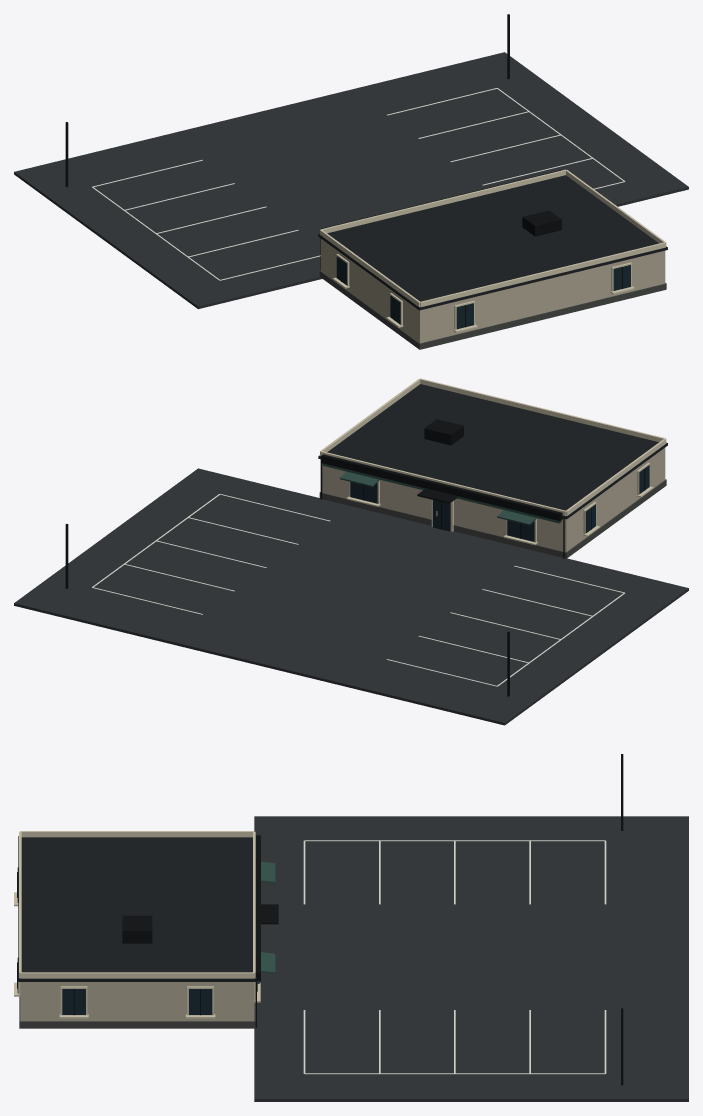
File: 18_Autohof.obj
3 views of the same model, one above another, from view 1: azimuth 30°, elevation 25°; view 2: azimuth 150°, elevation 25°; view 3: azimuth 270°, elevation 25° (orthographic). The views are drawn at different scales.
Visible parts, largest first — view 1: Asphalt, Roof, Plaster, Trim, Base, White, Metal, Glass; view 2: Asphalt, Roof, Plaster, Trim, Metal, White, Base, Glass, Awning; view 3: Asphalt, Roof, Plaster, Trim, White, Metal, Base, Glass, Awning.
Boxes of the visible parts, x1,y1,x2,y2 form: Asphalt: [14, 52, 688, 309]; Roof: [318, 175, 667, 310]; Plaster: [321, 239, 665, 343]; Trim: [320, 169, 666, 332]; Base: [319, 270, 666, 349]; White: [92, 88, 625, 280]; Metal: [65, 14, 622, 327]; Glass: [336, 256, 630, 329]; Asphalt: [14, 468, 688, 725]; Roof: [318, 384, 667, 519]; Plaster: [322, 448, 665, 552]; Trim: [320, 378, 666, 545]; Metal: [65, 419, 645, 696]; White: [92, 494, 625, 686]; Base: [319, 479, 666, 558]; Glass: [350, 465, 649, 541]; Awning: [323, 463, 561, 525]; Asphalt: [254, 816, 688, 1101]; Roof: [18, 836, 256, 981]; Plaster: [20, 982, 254, 1021]; Trim: [14, 831, 260, 1018]; White: [303, 840, 606, 1074]; Metal: [17, 754, 623, 1085]; Base: [19, 996, 255, 1028]; Glass: [17, 867, 212, 1014]; Awning: [257, 861, 275, 983].
Bounding box in the file's own units: 40 × 5.2 × 40.38.
